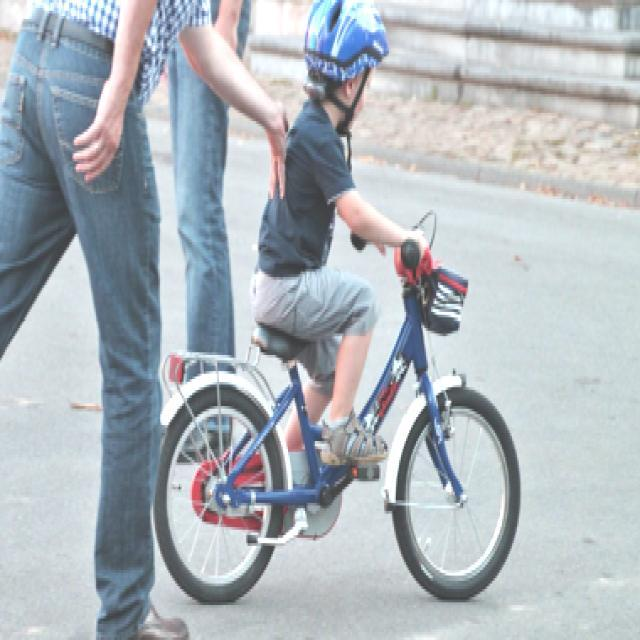Helmet: (303, 0, 394, 132)
